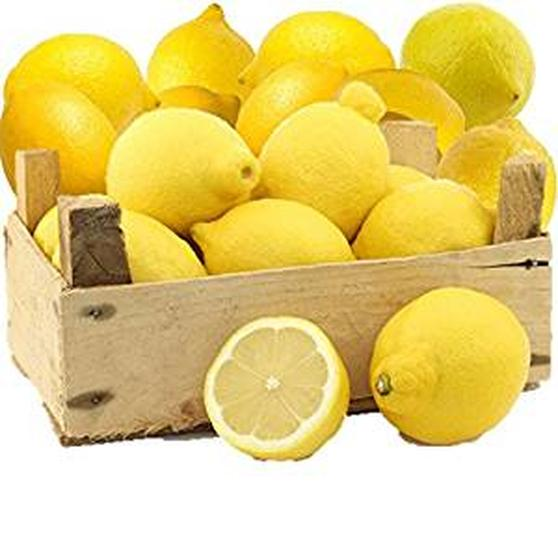lemon: (369, 285, 535, 440), (254, 97, 390, 232), (108, 103, 256, 211)
